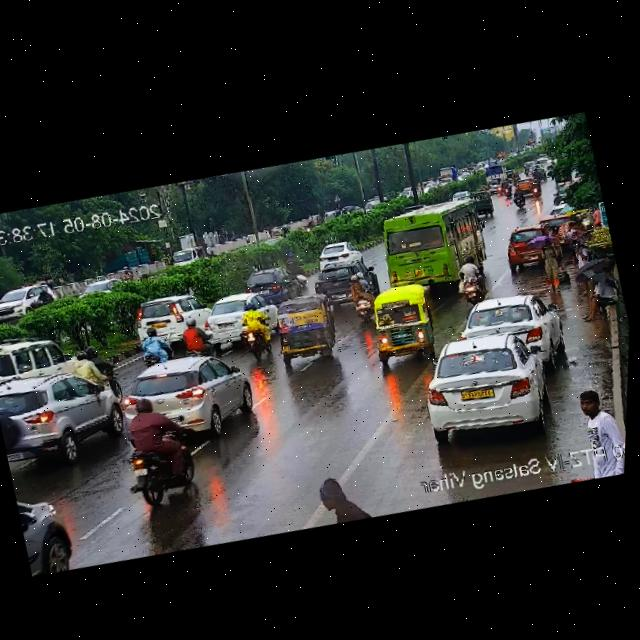bus: (362, 186, 495, 304)
car: (414, 315, 570, 452), (116, 337, 259, 450), (0, 358, 130, 482), (455, 282, 566, 371), (365, 278, 446, 368), (11, 480, 80, 580), (260, 286, 343, 368), (130, 286, 210, 349), (0, 331, 72, 394), (204, 283, 278, 340), (242, 257, 310, 307), (310, 256, 374, 309), (500, 220, 557, 273), (0, 278, 59, 327), (156, 236, 213, 280), (75, 268, 134, 308), (310, 236, 363, 276), (262, 218, 294, 244), (470, 188, 497, 217)
motorcycle: (109, 387, 202, 511), (233, 293, 276, 360), (446, 251, 489, 311), (126, 321, 176, 369), (173, 313, 213, 360), (342, 273, 377, 323), (510, 186, 531, 211)
person: (562, 376, 628, 455), (308, 462, 378, 530), (572, 261, 621, 319), (552, 220, 585, 270), (534, 232, 563, 280)
